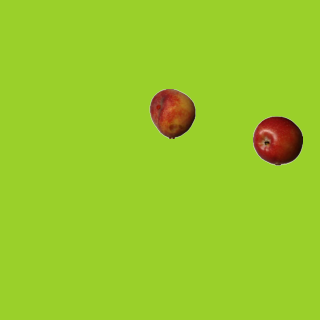Apple Braeburn: (252, 115, 302, 165)
Peach: (147, 88, 197, 138)
